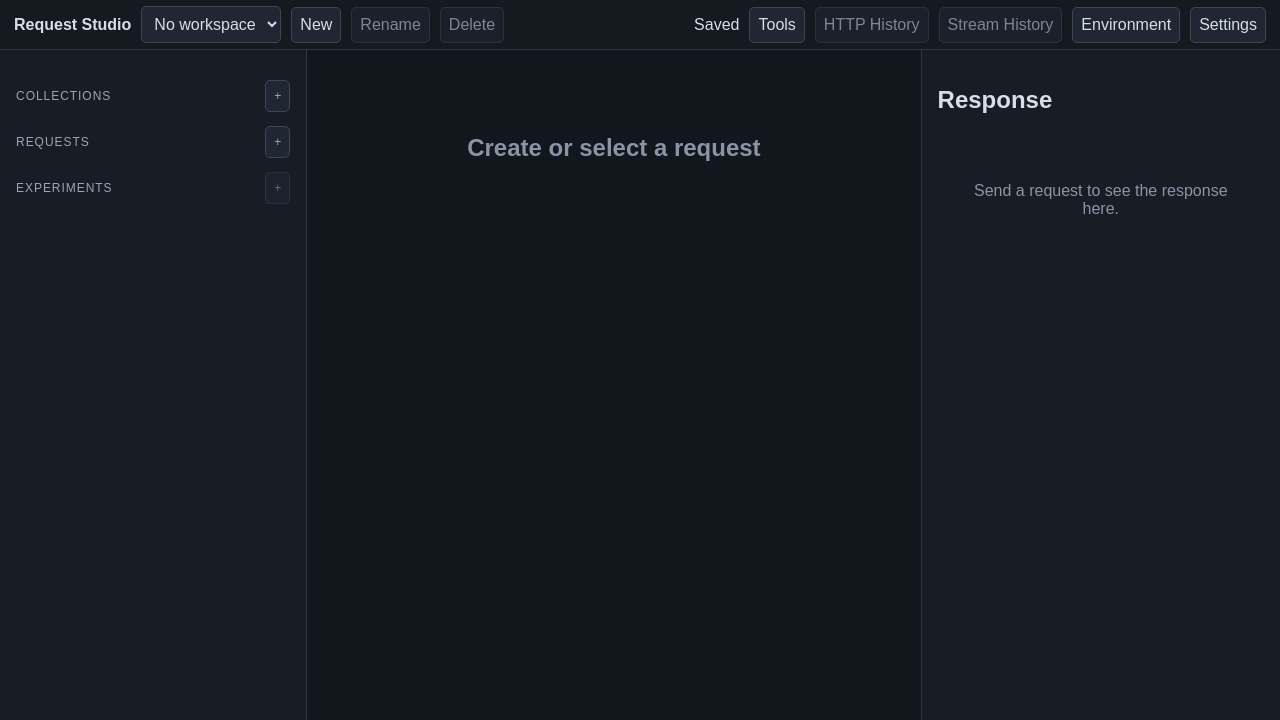
Test: opens Workspace Import without an existing Workspace and keeps scoped tools disabled
Click the button "Tools" at (777, 24), box [750,6,805,42]
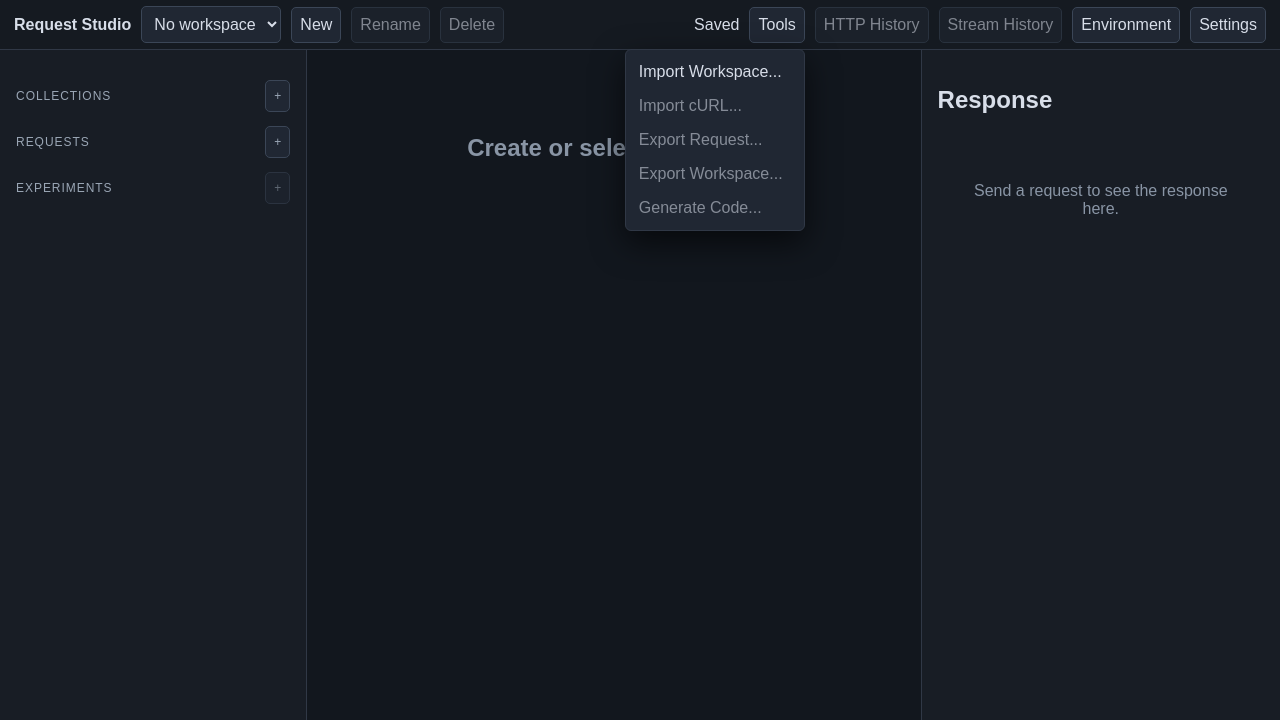
Check: the menu item "Import Workspace..." is enabled
Check: the menu item "Import cURL..." is disabled, box [631,88,799,122]
Check: the menu item "Export Request..." is disabled, box [631,122,799,156]
Click the menu item "Import Workspace..." at (715, 72), box [631,54,799,88]
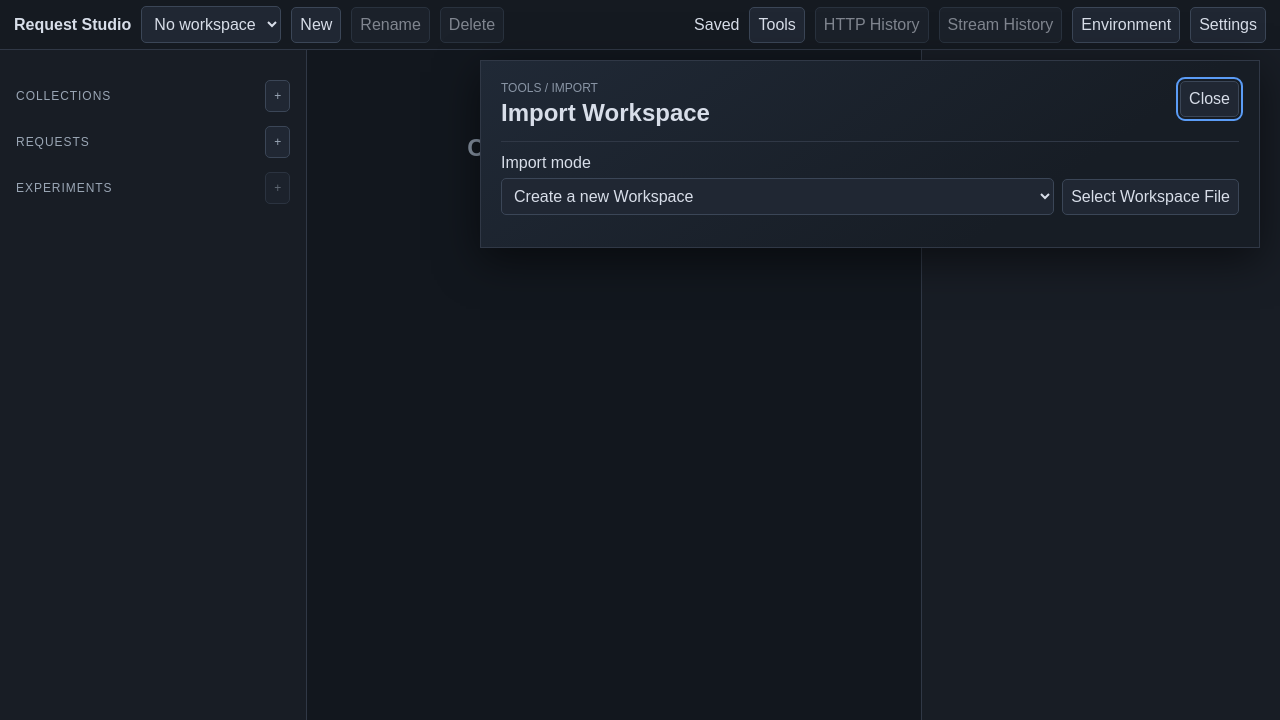
Check: the dialog "Import Workspace" is shown, box [480,60,1260,248]
